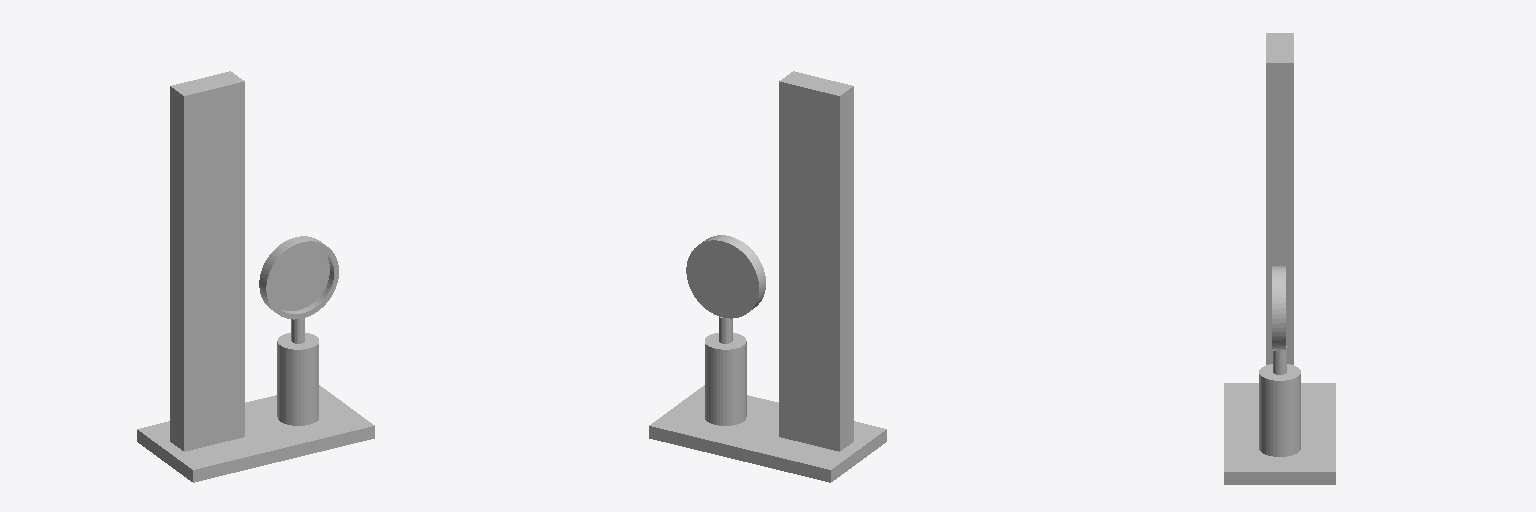
Rendered from boyle.obj.
3 renders of one model, left to right at view 1: azimuth 30°, elevation 25°; view 2: azimuth 150°, elevation 25°; view 3: azimuth 270°, elevation 25°, orthographic.
Parts seen in each view (by area): view 1: MeshBody1; view 2: MeshBody1; view 3: MeshBody1.
Boxes of the visible parts, box(x1,y1,x2,y2) form: MeshBody1: box(137, 71, 374, 482); MeshBody1: box(649, 71, 886, 482); MeshBody1: box(1224, 33, 1335, 484).
Size of the model in its own units: 7.5 by 14.5 by 4.